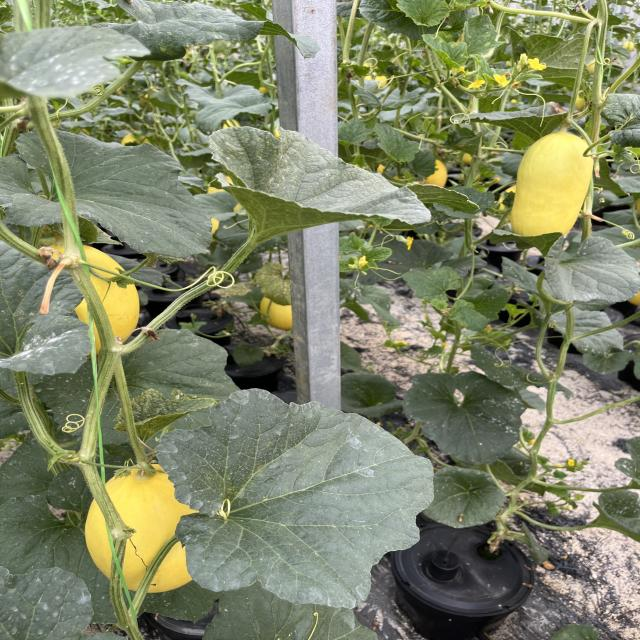SLCV: (381, 0, 467, 33)
downy mildew: (208, 127, 430, 243)
powdery mildew: (150, 395, 468, 595), (76, 126, 206, 240), (0, 239, 89, 381), (405, 373, 525, 462), (0, 549, 111, 640), (0, 303, 97, 394)
